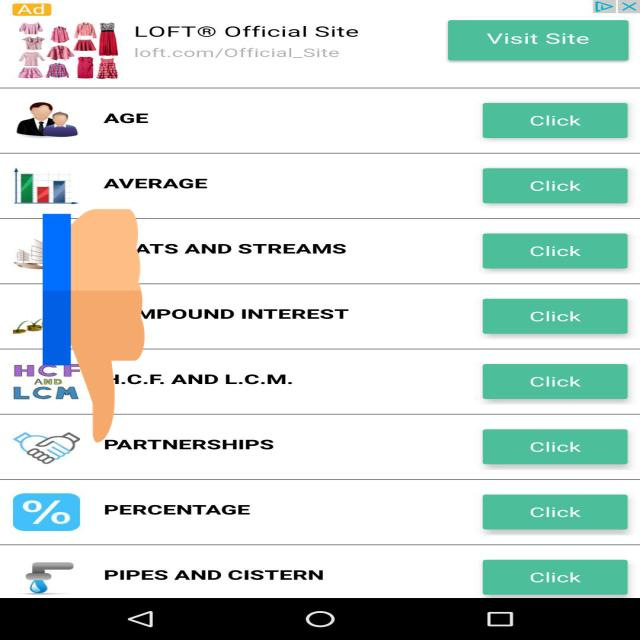obstruction: (42, 204, 144, 448)
